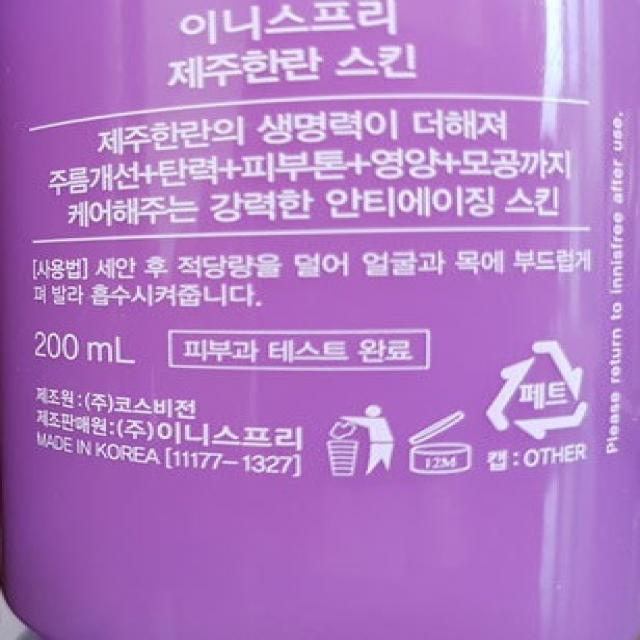PET: (476, 335, 596, 441)
